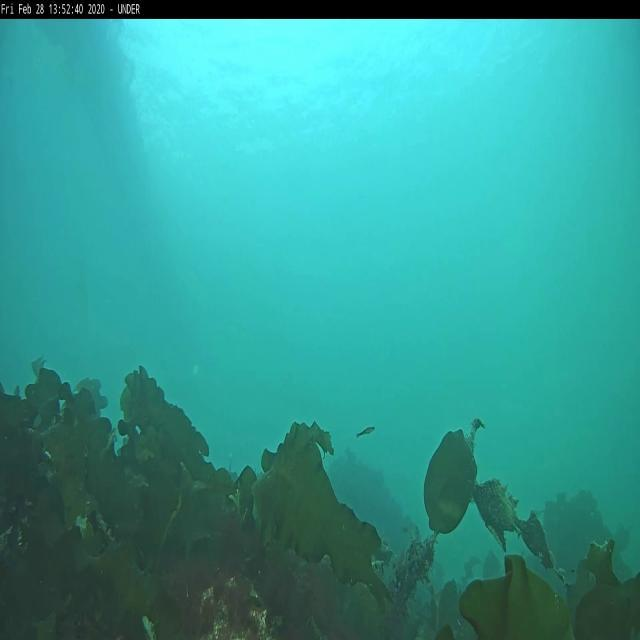fish: (357, 422, 375, 438)
